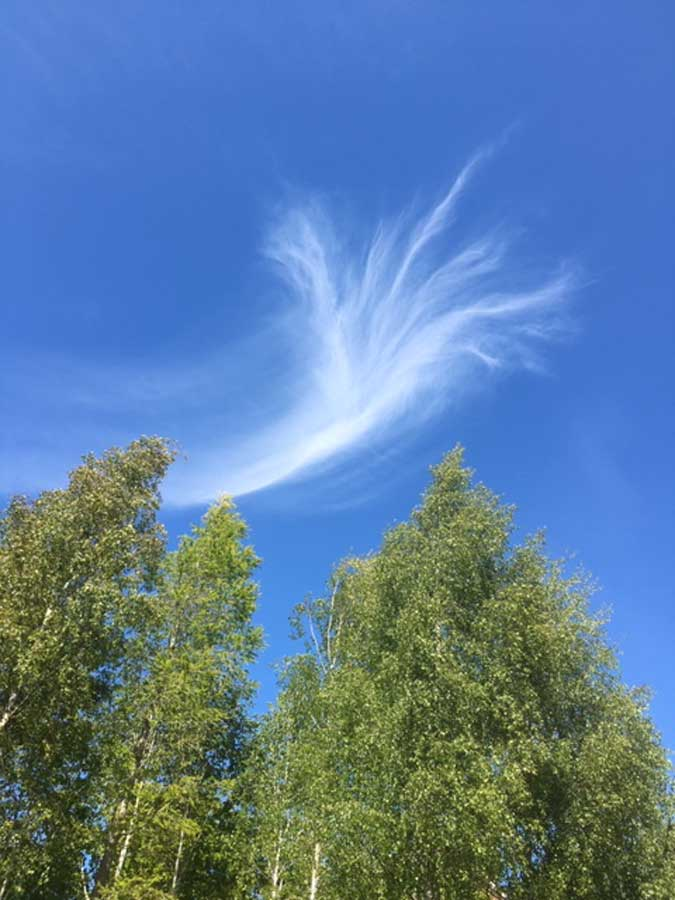Cirrus: (73, 87, 621, 503)
